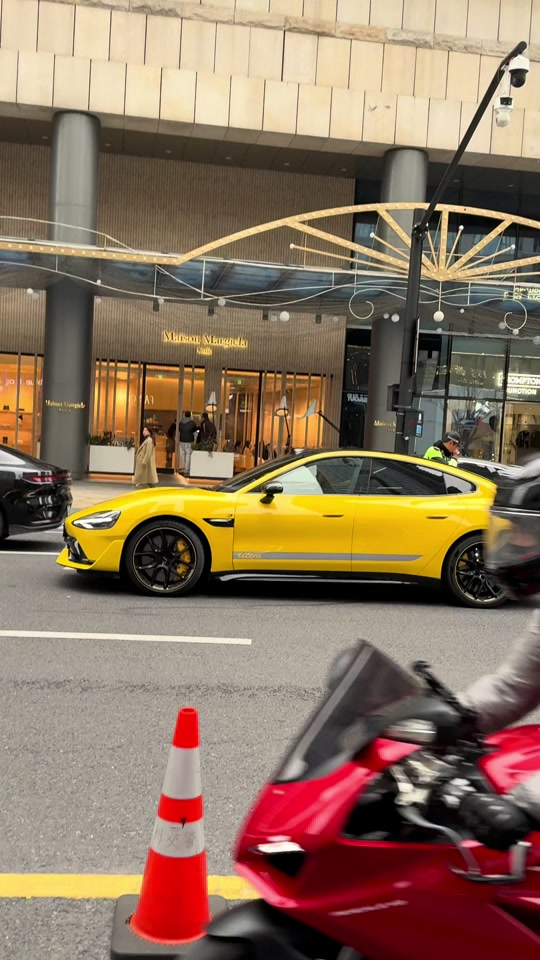su7: (57, 448, 533, 620)
